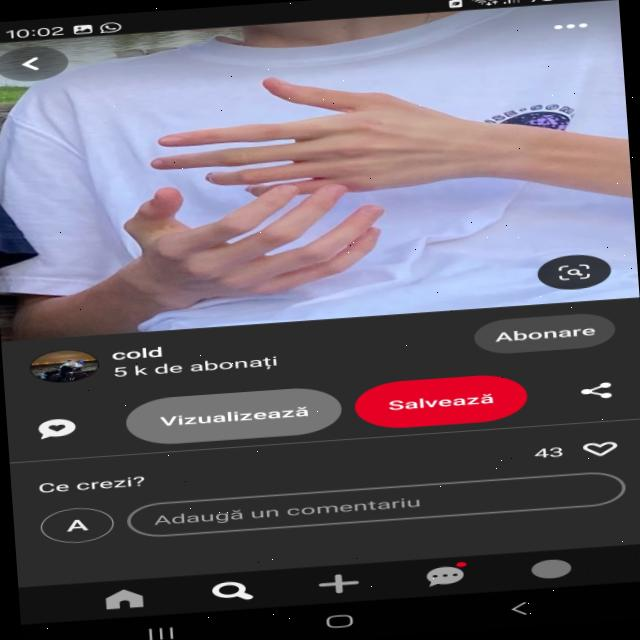hands: (138, 25, 614, 215), (81, 160, 418, 326)
